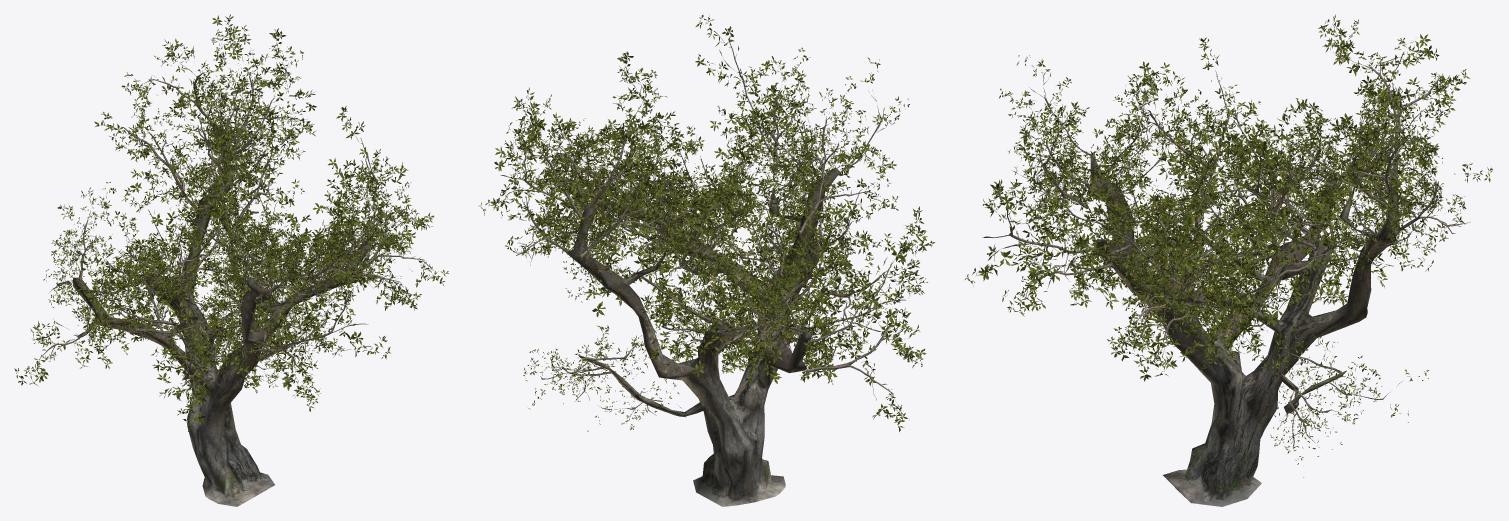
File: island_tree_01.glb
The picture shows the model from 3 angles, left to right: view 1: azimuth 30°, elevation 25°; view 2: azimuth 150°, elevation 25°; view 3: azimuth 270°, elevation 25°; orthographic projection. The views are drawn at different scales.
Parts seen in each view (by area): view 1: island_tree_01_LOD0; view 2: island_tree_01_LOD0; view 3: island_tree_01_LOD0.
Part boxes in pixels (bbox=[...]): island_tree_01_LOD0: bbox=[14, 14, 448, 506]; island_tree_01_LOD0: bbox=[478, 15, 934, 506]; island_tree_01_LOD0: bbox=[965, 14, 1492, 506].
Bounding box in the file's own units: 4.74 × 5.02 × 4.82.
3 materials, 3 textured.
